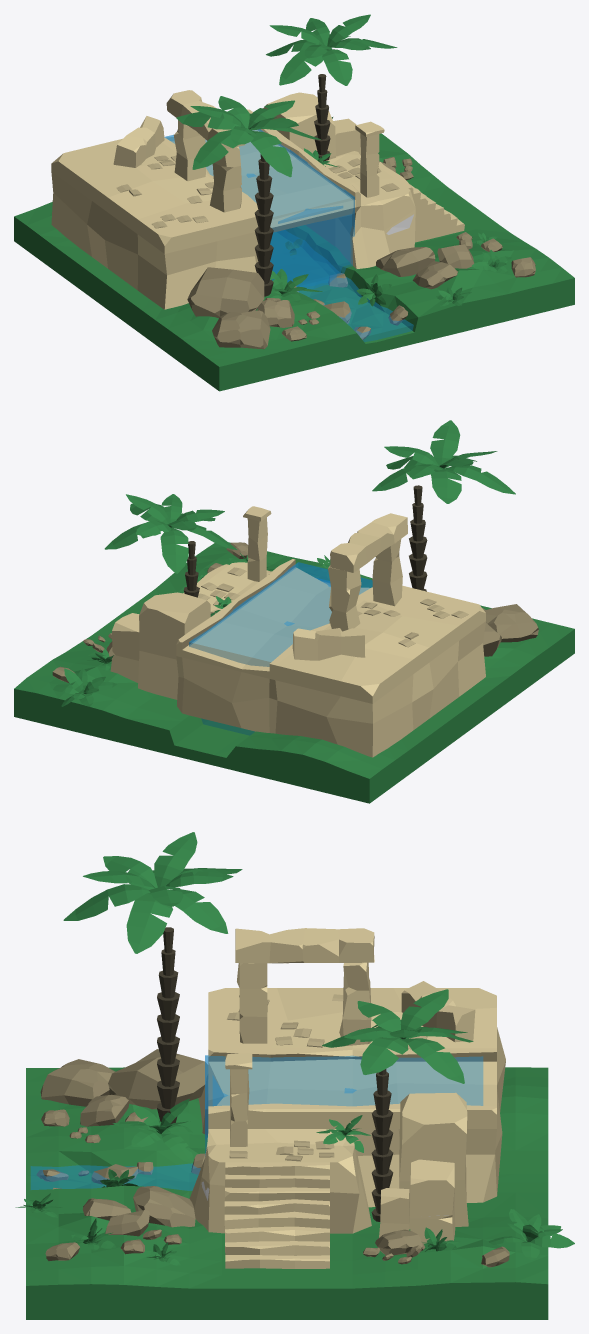
File: ruins4Godot.glb
The picture shows the model from 3 angles, top to bottom: view 1: azimuth 30°, elevation 25°; view 2: azimuth 150°, elevation 25°; view 3: azimuth 270°, elevation 25°; orthographic projection. The views are drawn at different scales.
Visible parts, largest first — view 1: Ground, Ruins, Water, Rock, Water.001, Palm.001, Rock.001, Ruin, Stairs, Pillar.002, PillarOff, Pillar.001 (+16 smaller); view 2: Ruins, Ground, Water, Ruin, PillarRoof, PillarOff, Pillar, Ruin.001, Pillar.002, Pillar.001, Rock.001, Palm.001 (+8 smaller); view 3: Ground, Ruins, Stairs, Water, Ruin, PillarRoof, Ruin.001, Palm.001, Rock, Water.001, Rock.001, Pillar.002 (+21 smaller).
Boxes of the visible parts, x1,y1,x2,y2 form: Ground: [14, 133, 574, 391]; Ruins: [51, 109, 415, 309]; Water: [164, 129, 354, 288]; Rock: [187, 267, 264, 318]; Water.001: [296, 274, 413, 341]; Palm.001: [254, 154, 273, 296]; Rock.001: [212, 310, 270, 349]; Ruin: [263, 92, 335, 159]; Stairs: [378, 162, 464, 242]; Pillar.002: [210, 146, 241, 212]; PillarOff: [113, 116, 164, 167]; Pillar.001: [355, 121, 384, 197]; Ruins: [176, 559, 485, 757]; Ground: [14, 542, 574, 803]; Water: [189, 562, 372, 666]; Ruin: [138, 592, 210, 699]; PillarRoof: [330, 513, 407, 572]; PillarOff: [292, 628, 365, 660]; Pillar: [328, 565, 361, 631]; Ruin.001: [110, 613, 139, 682]; Pillar.002: [372, 539, 402, 606]; Pillar.001: [243, 506, 271, 581]; Rock.001: [484, 604, 538, 642]; Palm.001: [409, 485, 427, 591]; Ground: [26, 1067, 548, 1319]; Ruins: [189, 988, 505, 1233]; Stairs: [224, 1162, 329, 1268]; Water: [205, 1055, 482, 1155]; Ruin: [399, 1092, 468, 1229]; PillarRoof: [235, 928, 374, 963]; Ruin.001: [410, 1159, 455, 1243]; Palm.001: [157, 927, 179, 1123]; Rock: [108, 1049, 207, 1109]; Water.001: [31, 1163, 200, 1190]; Rock.001: [40, 1059, 115, 1106]; Pillar.002: [237, 963, 267, 1043].
Bounding box in the file's own units: 9.96 × 6.13 × 10.69.
